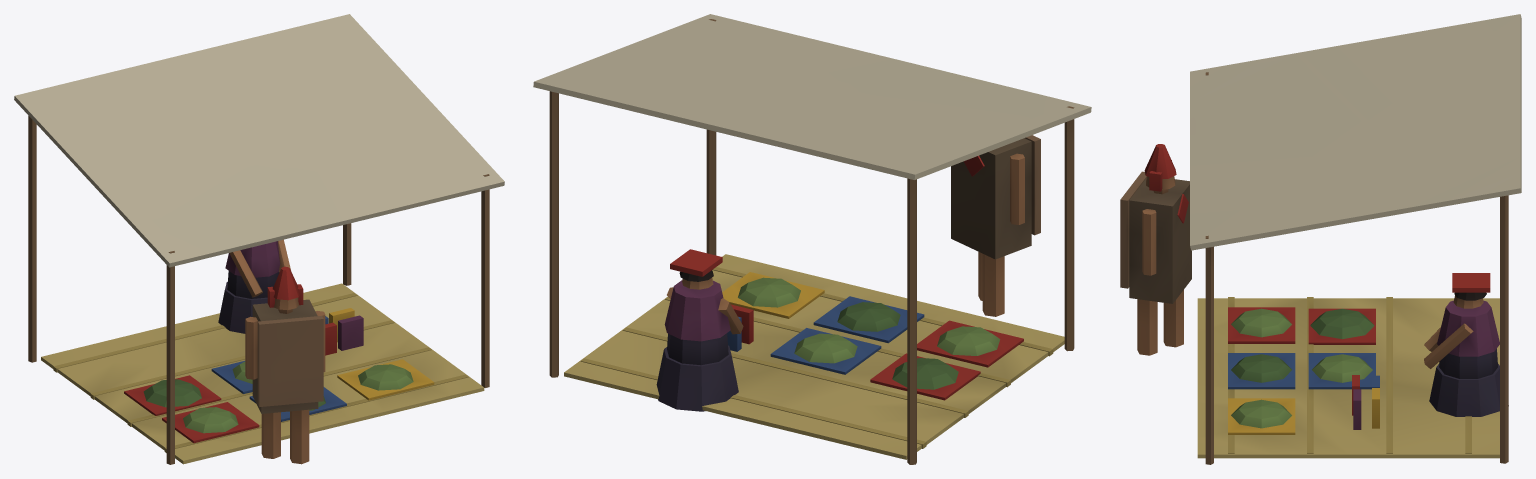
File: stall.glb
3 renders of one model, left to right at view 1: azimuth 30°, elevation 25°; view 2: azimuth 150°, elevation 25°; view 3: azimuth 270°, elevation 25°, orthographic. The views are drawn at different scales.
Visible parts, largest first — view 1: base; view 2: base; view 3: base.
Part boxes in pixels (<box>): base: <box>14,14,504,464</box>; base: <box>533,14,1091,464</box>; base: <box>1120,14,1521,464</box>.
Size of the model in its own units: 3.06 by 2.3 by 2.98.
